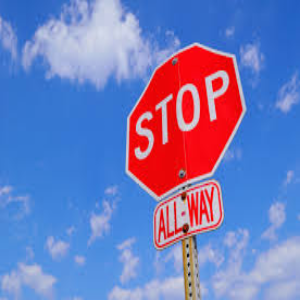STOP_SIGN: (125, 42, 246, 200)
